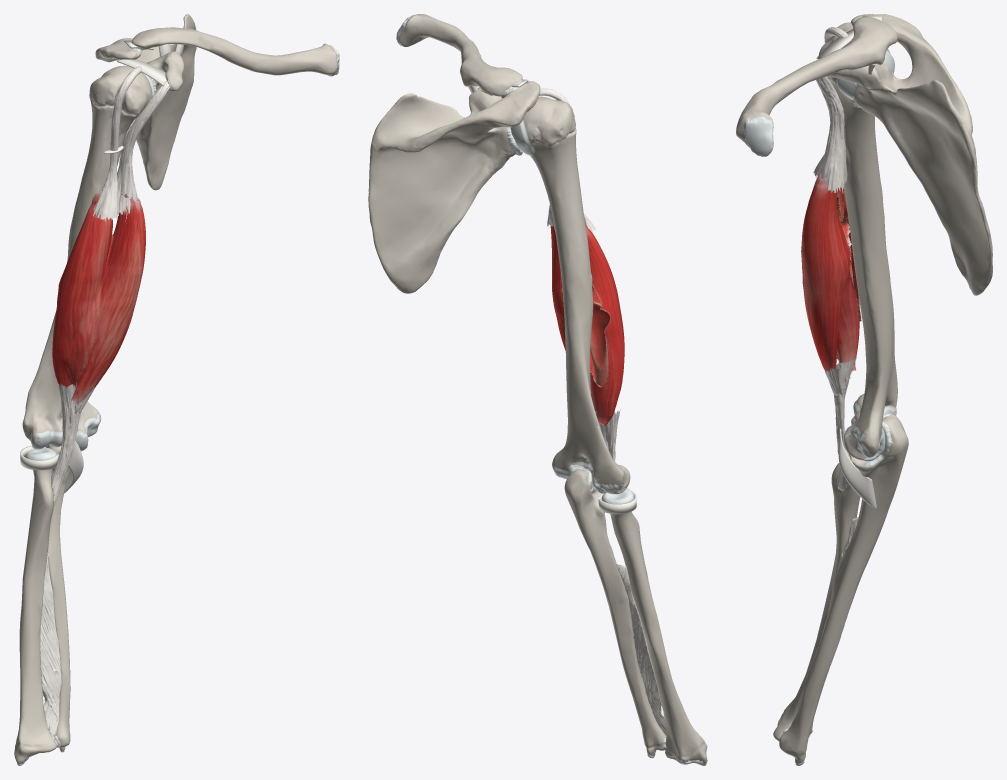
Rendered from modelo_SUBSTITUIDO_2026-11-10.glb.
3 renders of one model, left to right at view 1: azimuth 30°, elevation 25°; view 2: azimuth 150°, elevation 25°; view 3: azimuth 270°, elevation 25°, orthographic. The views are drawn at different scales.
Parts seen in each view (by area): view 1: ventres_biceps, umero, radio, escapula, clavicula, tendoes_cabeca_longa, ulna, membrana_interossea, tendoes_cabeca_curta, cartilagem_troclea_capitulo; view 2: escapula, umero, ulna, ventres_biceps, radio, clavicula, membrana_interossea, tendoes_cabeca_longa, cartilagem_troclea_capitulo; view 3: escapula, umero, ventres_biceps, ulna, clavicula, tendoes_cabeca_curta, radio, tendoes_cabeca_longa, aponeurose_bicipital, cartilagem_esternoclavicular, cartilagem_troclea_capitulo.
Boxes of the visible parts, x1,y1,x2,y2 form: ventres_biceps: [52, 193, 145, 405]; umero: [22, 65, 152, 445]; radio: [14, 468, 56, 763]; escapula: [95, 14, 196, 190]; clavicula: [132, 27, 337, 76]; tendoes_cabeca_longa: [51, 66, 141, 506]; ulna: [45, 445, 70, 750]; membrana_interossea: [40, 552, 61, 736]; tendoes_cabeca_curta: [75, 81, 169, 413]; cartilagem_troclea_capitulo: [31, 414, 100, 451]; escapula: [368, 81, 540, 293]; umero: [523, 96, 630, 492]; ulna: [564, 469, 666, 755]; ventres_biceps: [550, 217, 624, 426]; radio: [610, 511, 707, 764]; clavicula: [399, 14, 522, 96]; membrana_interossea: [616, 563, 666, 735]; tendoes_cabeca_longa: [539, 88, 620, 461]; cartilagem_troclea_capitulo: [553, 461, 627, 494]; escapula: [826, 14, 992, 295]; umero: [818, 22, 897, 459]; ventres_biceps: [801, 168, 861, 378]; ulna: [779, 414, 908, 763]; clavicula: [736, 17, 897, 148]; tendoes_cabeca_curta: [816, 76, 847, 398]; radio: [773, 454, 860, 741]; tendoes_cabeca_longa: [813, 27, 856, 490]; aponeurose_bicipital: [838, 428, 876, 509]; cartilagem_esternoclavicular: [743, 116, 773, 156]; cartilagem_troclea_capitulo: [843, 400, 896, 461].
Size of the model in its own units: 0.2707 by 0.5526 by 0.1581.
Materials: 5 (1 with a texture image).
